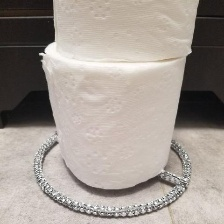tissue: (35, 34, 193, 194), (47, 0, 205, 67)
